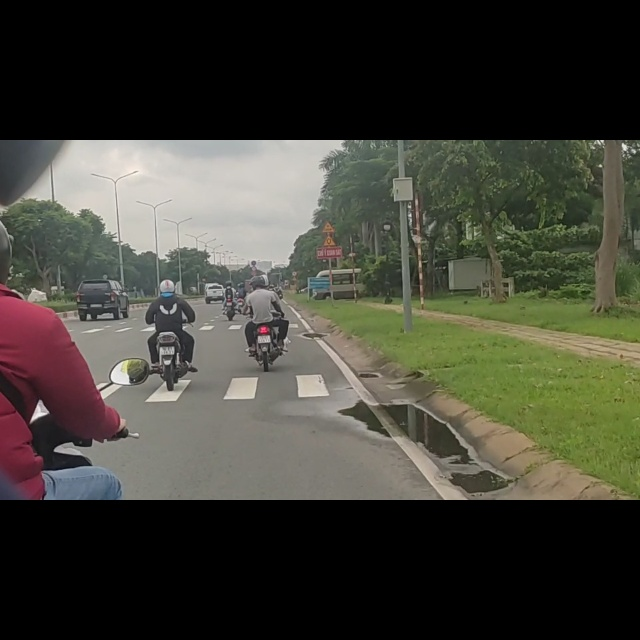bien_nguy_hiem: (321, 145, 335, 166), (323, 169, 336, 190), (251, 213, 257, 223)
